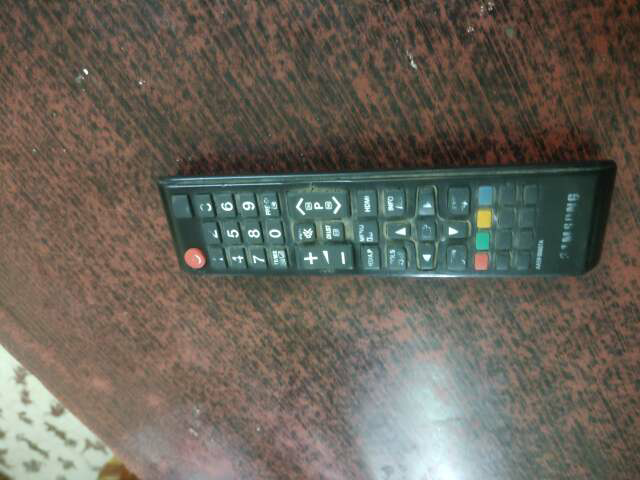remote: (150, 156, 623, 284)
